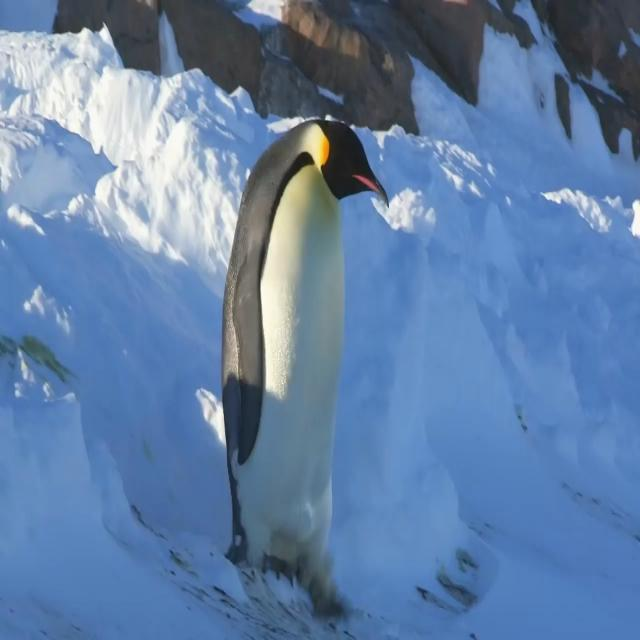penguin: (219, 119, 388, 620)
